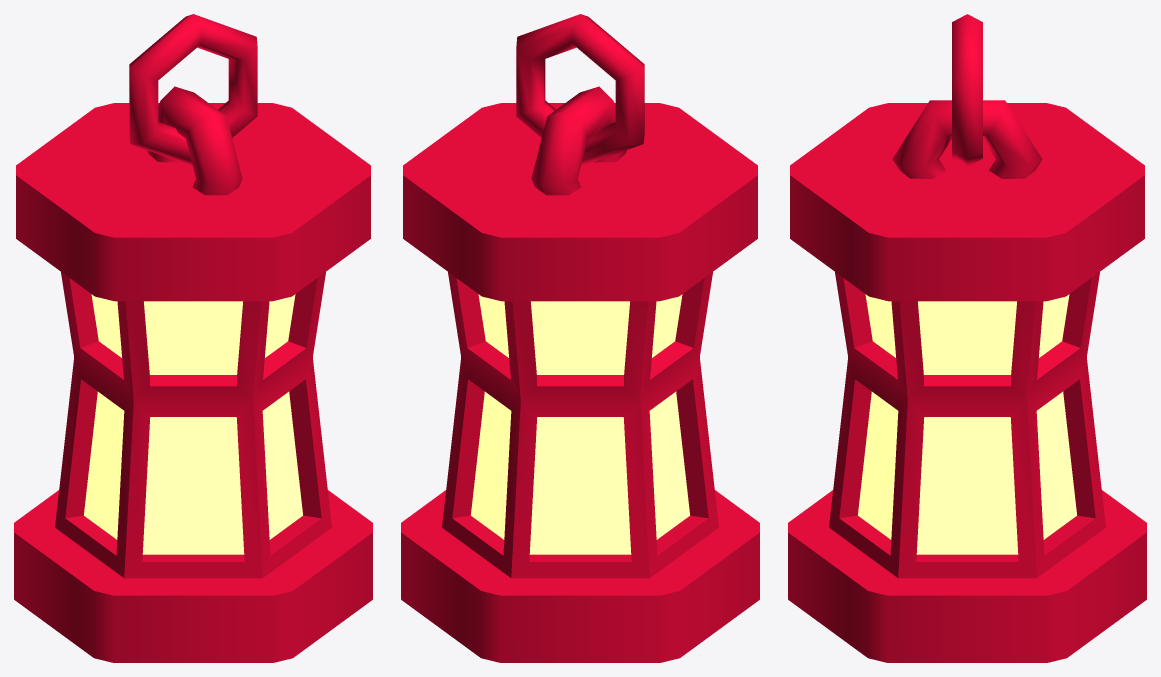
Rendered from MiningRoom_Lantern_2.fbx.
3 renders of one model, left to right at view 1: azimuth 30°, elevation 25°; view 2: azimuth 150°, elevation 25°; view 3: azimuth 270°, elevation 25°, orthographic.
Parts seen in each view (by area): view 1: MiningRoom_Lantern_2; view 2: MiningRoom_Lantern_2; view 3: MiningRoom_Lantern_2.
Boxes of the visible parts, x1,y1,x2,y2 form: MiningRoom_Lantern_2: [14, 14, 372, 662]; MiningRoom_Lantern_2: [401, 14, 759, 662]; MiningRoom_Lantern_2: [788, 14, 1146, 662].
Size of the model in its own units: 95.55 by 190 by 106.
